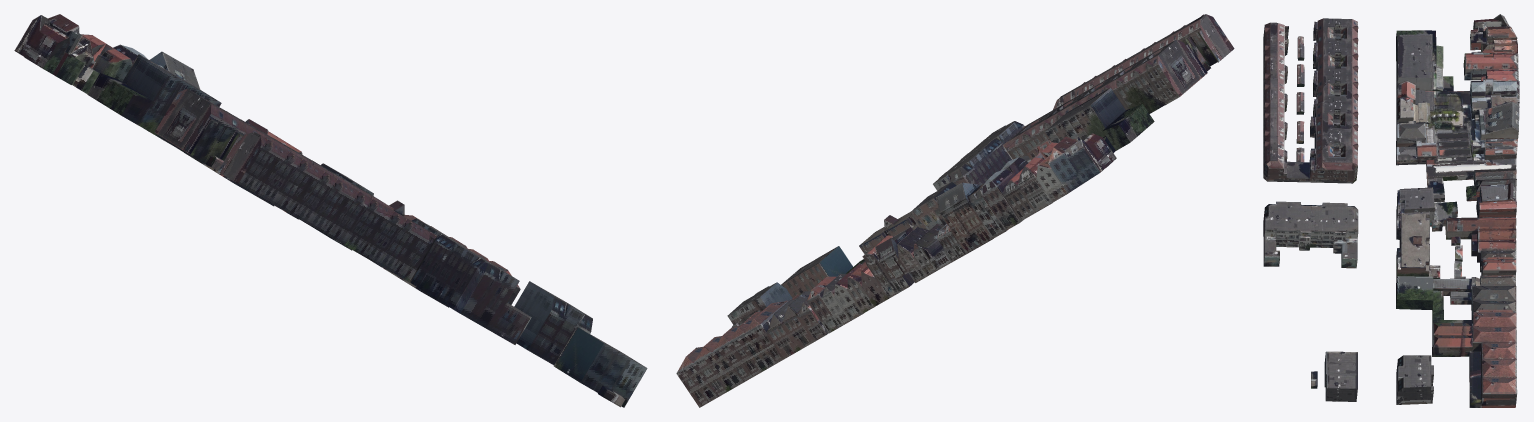
Rendered from 17-134310-27737-0-tex512.glb.
The picture shows the model from 3 angles, left to right: view 1: azimuth 30°, elevation 25°; view 2: azimuth 150°, elevation 25°; view 3: azimuth 270°, elevation 25°; orthographic projection. The views are drawn at different scales.
Parts seen in each view (by area): view 1: BAG_0599100000600900, BAG_0599100000670809, BAG_0599100000688736, BAG_0599100000670817, BAG_0599100000670791, BAG_0599100000767287, BAG_0599100000688744, BAG_0599100000688742, BAG_0599100000688740, BAG_0599100000688738, BAG_0599100000690498, BAG_0599100000670795 (+6 smaller); view 2: BAG_0599100000700003, BAG_0599100000670791, BAG_0599100000603404, BAG_0599100000701876, BAG_0599100000688736, BAG_0599100000767287, BAG_0599100000670809, BAG_0599100000600898, BAG_0599100000760487, BAG_0599100000687256, BAG_0599100000603411, BAG_0599100000603399 (+20 smaller); view 3: BAG_0599100000700003 (×2), BAG_0599100000603404 (×2), BAG_0599100000687256, BAG_0599100000670808 (×2), BAG_0599100000600899 (×2), BAG_0599100000600900, BAG_0599100000600898, BAG_0599100000670817, BAG_0599100000603408, BAG_0599100000670809, BAG_0599100000670807, BAG_0599100000767289 (×2) (+40 smaller).
Part boxes in pixels (x1,y1,x2,y2): BAG_0599100000600900: (417, 243, 519, 330); BAG_0599100000670809: (554, 327, 647, 407); BAG_0599100000688736: (218, 132, 295, 203); BAG_0599100000670817: (514, 281, 590, 365); BAG_0599100000670791: (154, 89, 227, 162); BAG_0599100000767287: (122, 54, 194, 140); BAG_0599100000688744: (377, 213, 436, 282); BAG_0599100000688742: (341, 197, 399, 263); BAG_0599100000688740: (307, 175, 365, 243); BAG_0599100000688738: (273, 161, 330, 223); BAG_0599100000690498: (24, 31, 83, 84); BAG_0599100000670795: (95, 78, 153, 125); BAG_0599100000700003: (676, 293, 801, 407); BAG_0599100000670791: (1144, 39, 1207, 104); BAG_0599100000603404: (936, 182, 992, 253); BAG_0599100000701876: (1048, 136, 1105, 193); BAG_0599100000688736: (1172, 14, 1234, 66); BAG_0599100000767287: (1067, 87, 1125, 140); BAG_0599100000670809: (781, 246, 852, 297); BAG_0599100000600898: (933, 144, 1006, 190); BAG_0599100000760487: (982, 161, 1027, 230); BAG_0599100000687256: (781, 259, 864, 350); BAG_0599100000603411: (875, 227, 914, 292); BAG_0599100000603399: (1018, 142, 1057, 211); BAG_0599100000700003 (×2): (1432, 300, 1517, 407); BAG_0599100000603404 (×2): (1396, 101, 1519, 165); BAG_0599100000687256: (1396, 276, 1516, 310); BAG_0599100000670808 (×2): (1396, 211, 1440, 279); BAG_0599100000600899 (×2): (1283, 147, 1357, 183); BAG_0599100000600900: (1263, 201, 1311, 250); BAG_0599100000600898: (1310, 202, 1358, 251); BAG_0599100000670817: (1396, 355, 1433, 404); BAG_0599100000603408: (1426, 157, 1516, 202); BAG_0599100000670809: (1324, 351, 1357, 401); BAG_0599100000670807: (1396, 187, 1457, 226); BAG_0599100000767289 (×2): (1396, 66, 1453, 102).
Size of the model in its own units: 136 by 109 by 96.16.
Materials: 3 (2 with a texture image).
